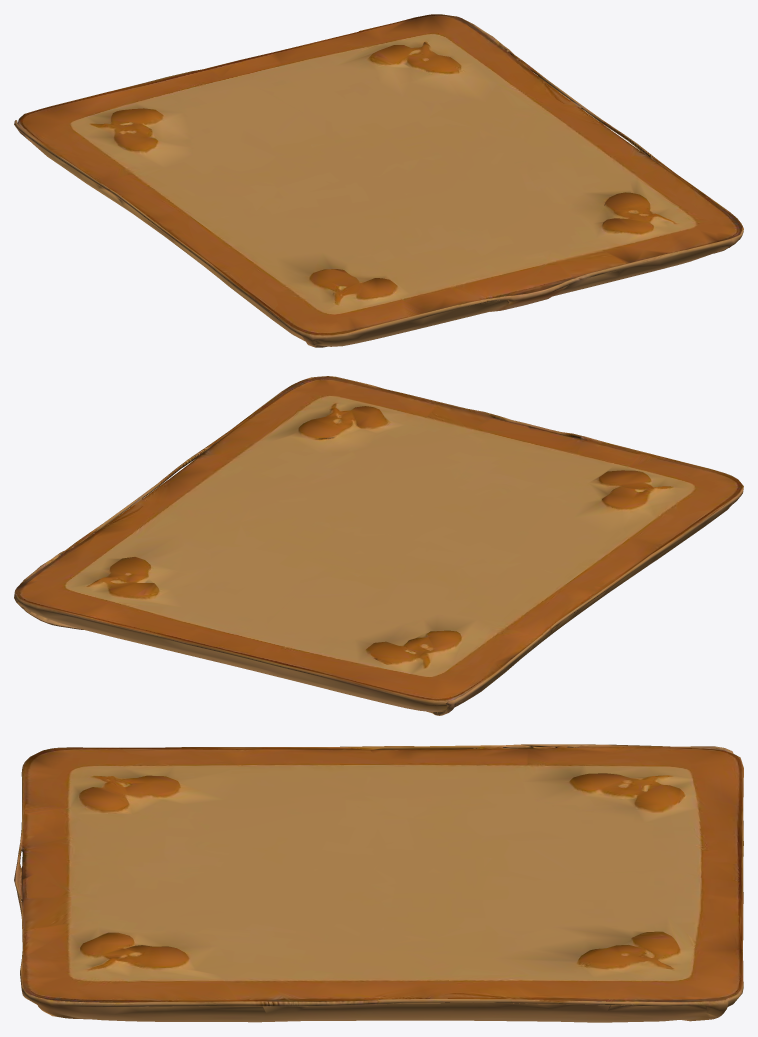
File: teppich_wald_a.glb
The picture shows the model from 3 angles, top to bottom: view 1: azimuth 30°, elevation 25°; view 2: azimuth 150°, elevation 25°; view 3: azimuth 270°, elevation 25°; orthographic projection. The views are drawn at different scales.
Parts seen in each view (by area): view 1: tripo_node_2e4bb342-59d8-4ef2-87c0-90a53893bb74; view 2: tripo_node_2e4bb342-59d8-4ef2-87c0-90a53893bb74; view 3: tripo_node_2e4bb342-59d8-4ef2-87c0-90a53893bb74.
Part boxes in pixels (bbox=[...]): tripo_node_2e4bb342-59d8-4ef2-87c0-90a53893bb74: bbox=[14, 14, 743, 347]; tripo_node_2e4bb342-59d8-4ef2-87c0-90a53893bb74: bbox=[14, 376, 743, 715]; tripo_node_2e4bb342-59d8-4ef2-87c0-90a53893bb74: bbox=[14, 744, 743, 1022].
Bounding box in the file's own units: 5.95 × 1 × 7.11.
1 material, 1 textured.
